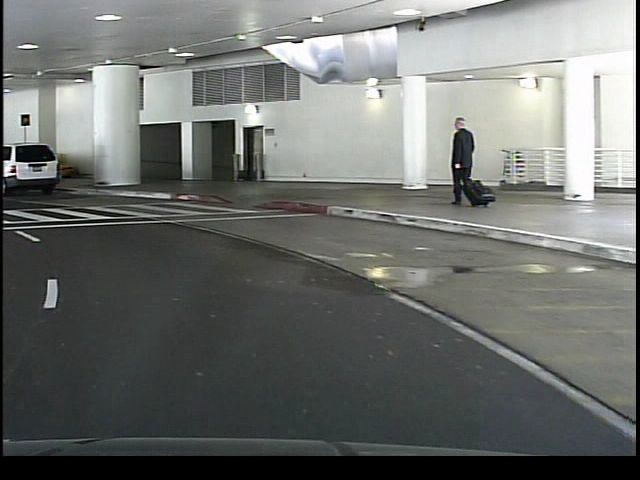person: (441, 112, 475, 208)
